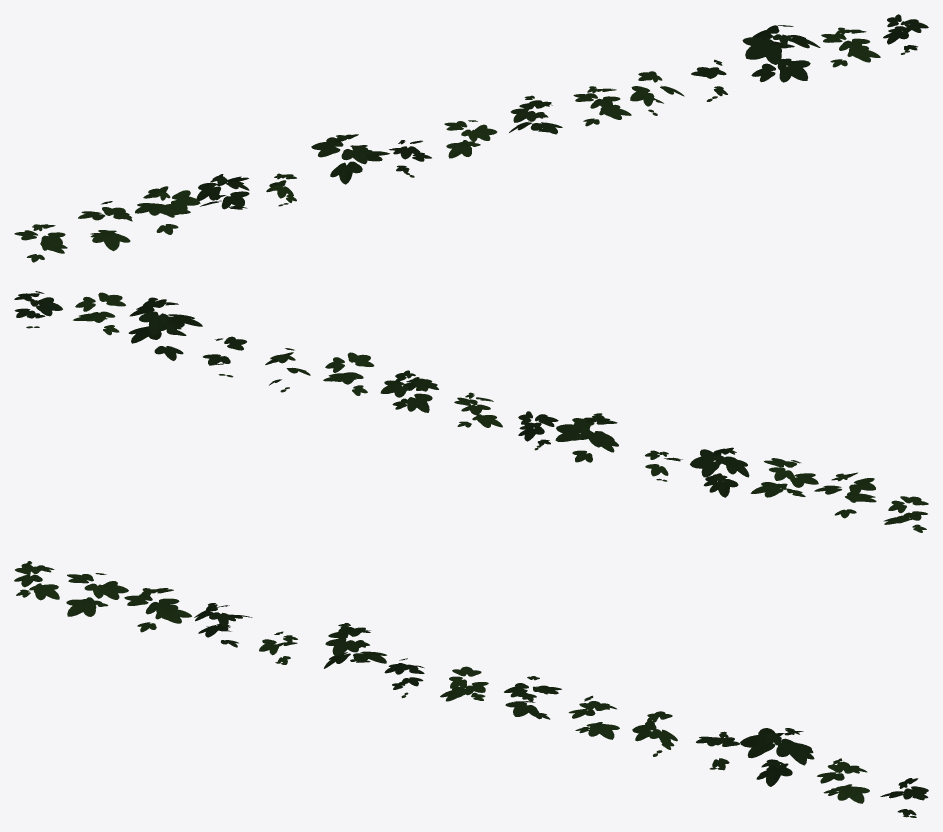
File: ROW_04_SEG4_foliage.dae
3 renders of one model, top to bottom at view 1: azimuth 30°, elevation 25°; view 2: azimuth 150°, elevation 25°; view 3: azimuth 330°, elevation 25°, orthographic.
Visible parts, largest first — view 1: ROW_04_SEG4_foliage; view 2: ROW_04_SEG4_foliage; view 3: ROW_04_SEG4_foliage.
Part boxes in pixels (bbox=[...]): ROW_04_SEG4_foliage: bbox=[14, 14, 928, 262]; ROW_04_SEG4_foliage: bbox=[14, 291, 928, 532]; ROW_04_SEG4_foliage: bbox=[14, 561, 928, 817].
Bounding box in the file's own units: 4.47 × 0.3432 × 0.2732.
